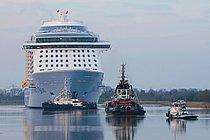Ship: (15, 9, 115, 115)
